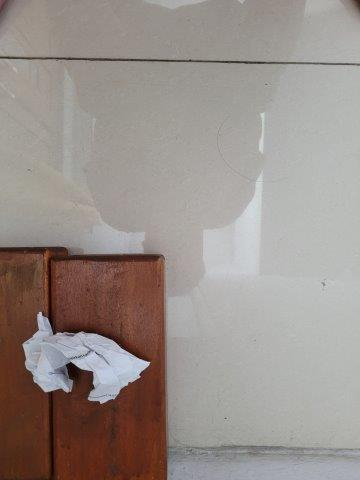kertas: (24, 313, 150, 404)
